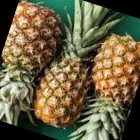Pineapple: (32, 1, 123, 128), (68, 31, 140, 139), (1, 4, 64, 125)
